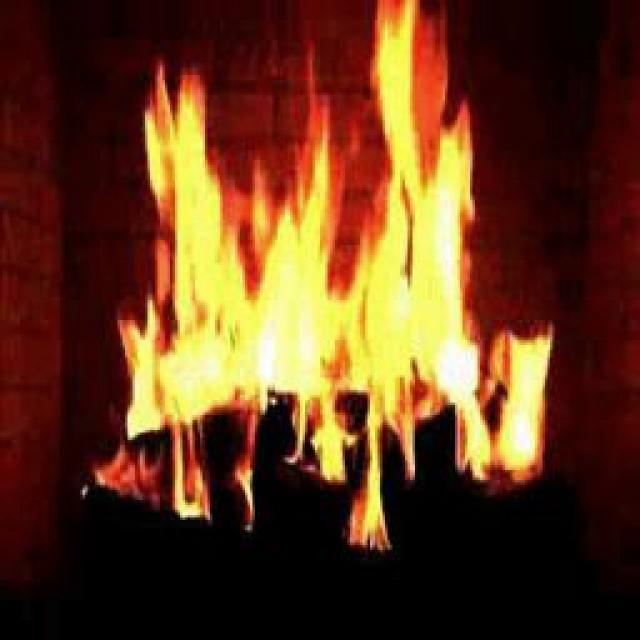fire: (87, 0, 564, 546)
